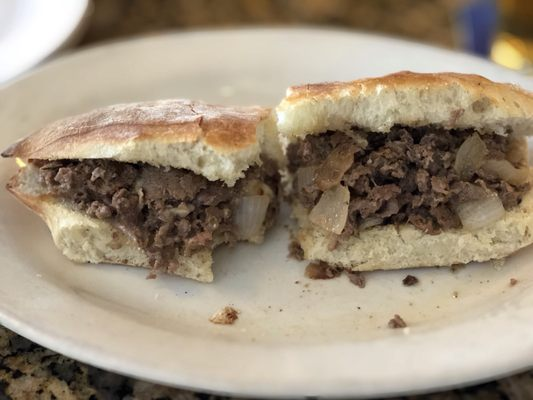soup: (265, 70, 533, 273), (2, 98, 280, 282)
